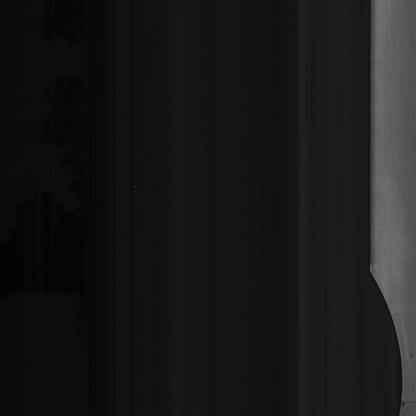crescent_gap: (356, 253, 407, 415)
